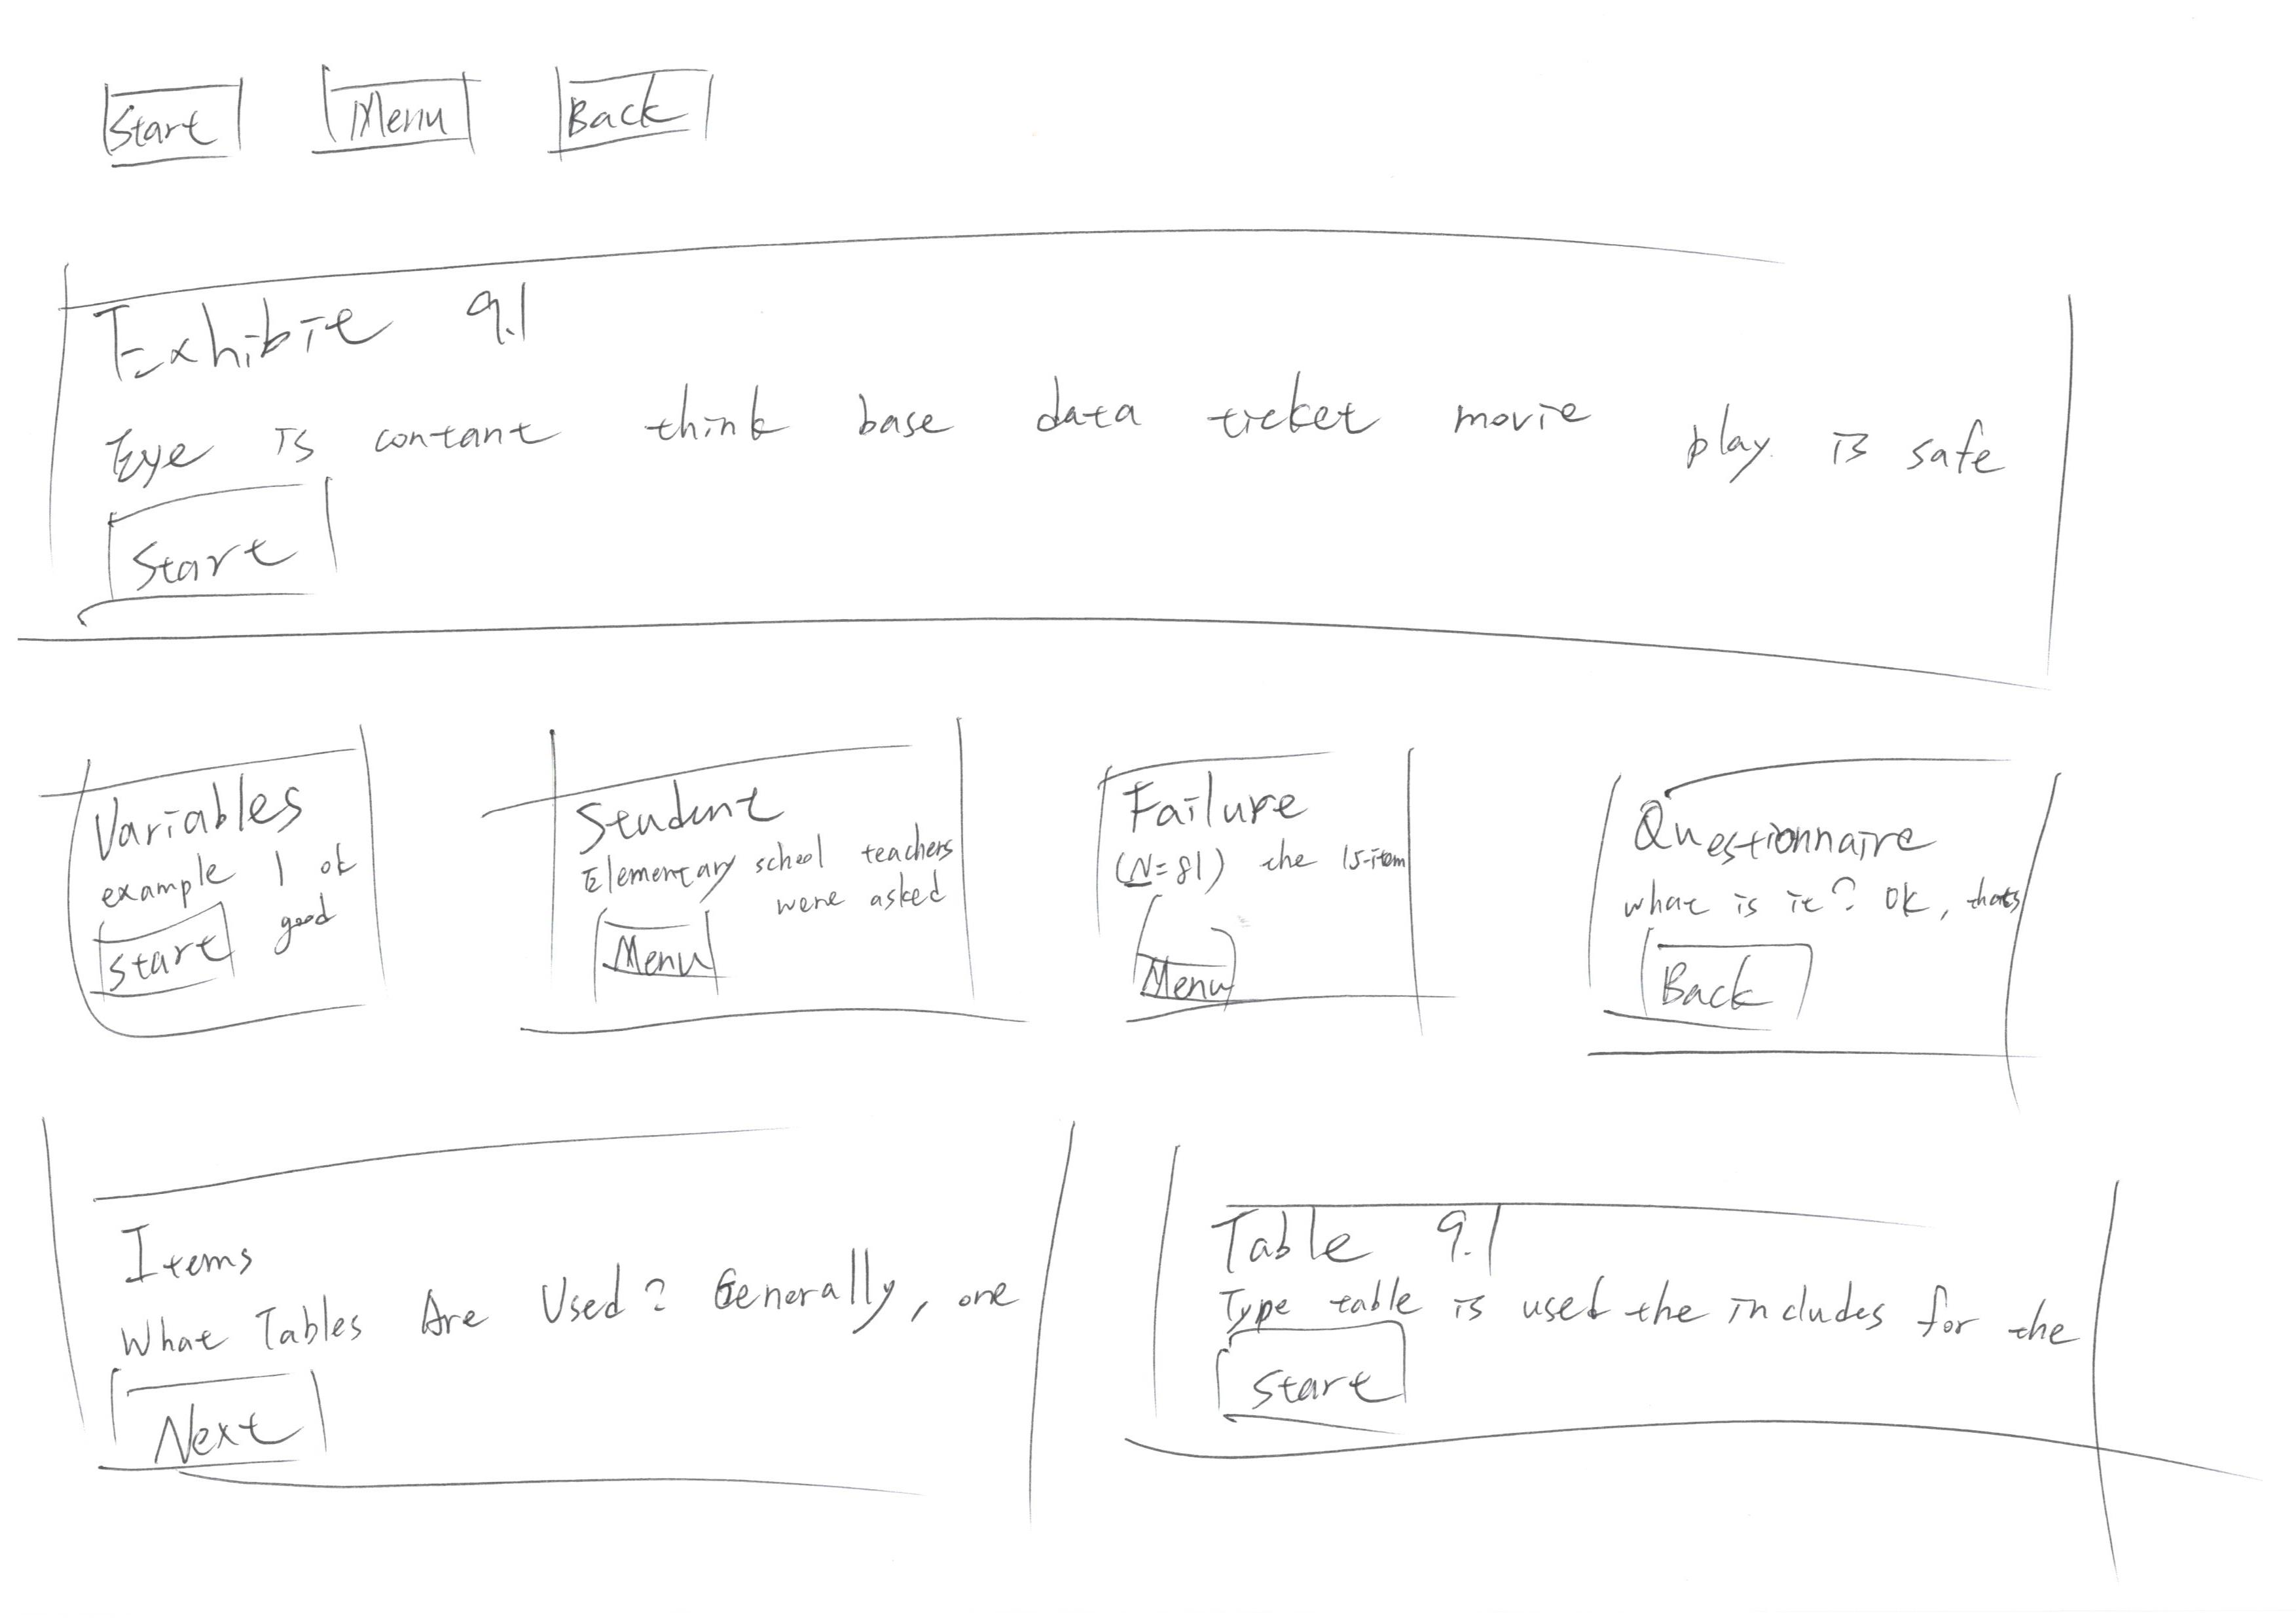back: (1626, 924, 1846, 1055), (519, 46, 726, 178)
double: (5, 1097, 1095, 1536), (1102, 1114, 2178, 1506)
menu: (292, 53, 505, 174), (577, 895, 751, 1032), (1113, 902, 1269, 1026)
next: (95, 1362, 387, 1506)
quadruple: (1563, 724, 2096, 1109), (510, 707, 1025, 1081), (1060, 721, 1501, 1063), (63, 729, 429, 1056)
row: (18, 211, 2280, 692), (26, 650, 2289, 1132), (33, 1100, 2296, 1582), (21, 16, 2277, 223)
small-title: (77, 286, 575, 394), (1190, 1167, 1540, 1280), (1644, 789, 1951, 875), (125, 1195, 336, 1315), (98, 765, 343, 859), (566, 772, 798, 849), (1116, 782, 1359, 845)
start: (91, 469, 381, 627), (1201, 1316, 1440, 1441), (88, 56, 278, 195), (74, 900, 246, 1007)
text: (105, 373, 2002, 478), (1210, 1271, 2055, 1343), (123, 1280, 997, 1339), (589, 826, 949, 900), (1616, 875, 2020, 937), (1129, 835, 1403, 896), (788, 844, 944, 939), (88, 863, 348, 912)
